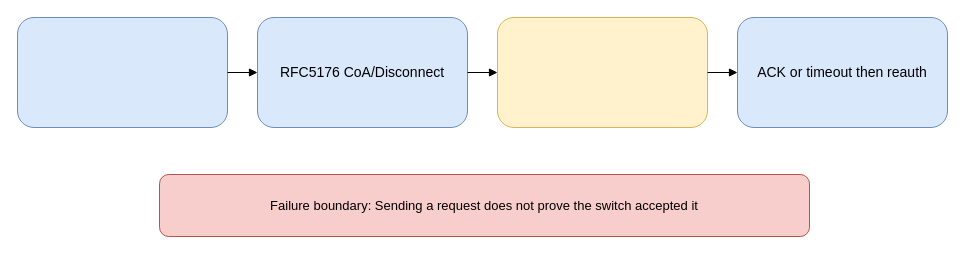
Some shapes in this 965 by 254 pixel diagram are drawn without their labels. The shapes that lost their labels are listed below. From the top down, each one's centre as x and y in pixels, then its label:
At point (122, 72): "FortiNAC host state changes".
At point (602, 72): "Switch radius-acct listener".
